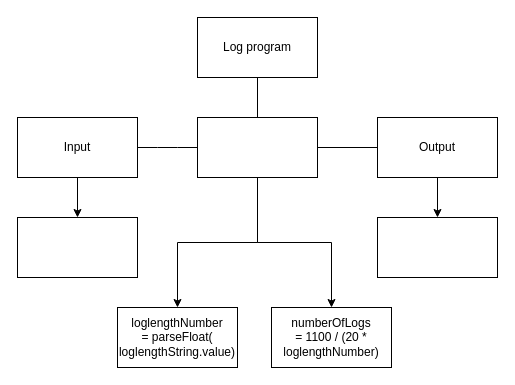
This 515x385 diagram has some shape labels left out. The centre of each missing label's shape, as x and y in pixels:
Get loglengthNumber: (77,247)
Print ${numberOfLogs}: (437,247)
Process: (257,147)
